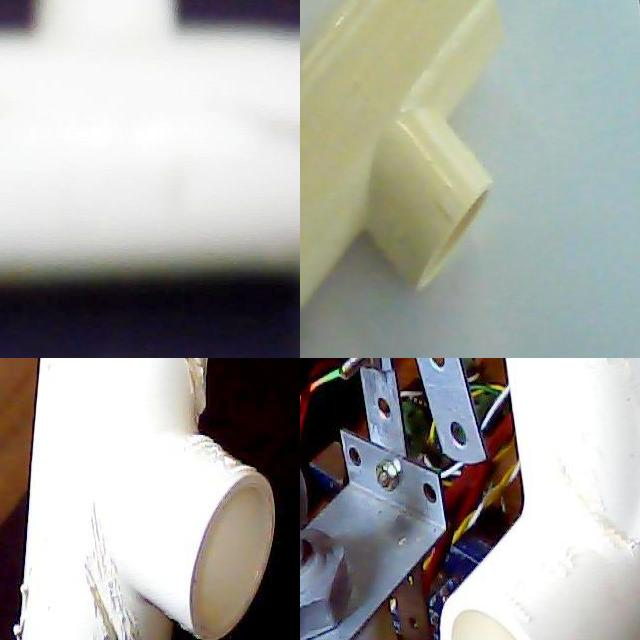Defective: (31, 465, 176, 640), (150, 358, 209, 448), (618, 382, 640, 567), (258, 101, 300, 173), (54, 358, 80, 404), (626, 454, 639, 471)
T Joint: (0, 0, 300, 290), (14, 358, 277, 640), (300, 0, 506, 314)
